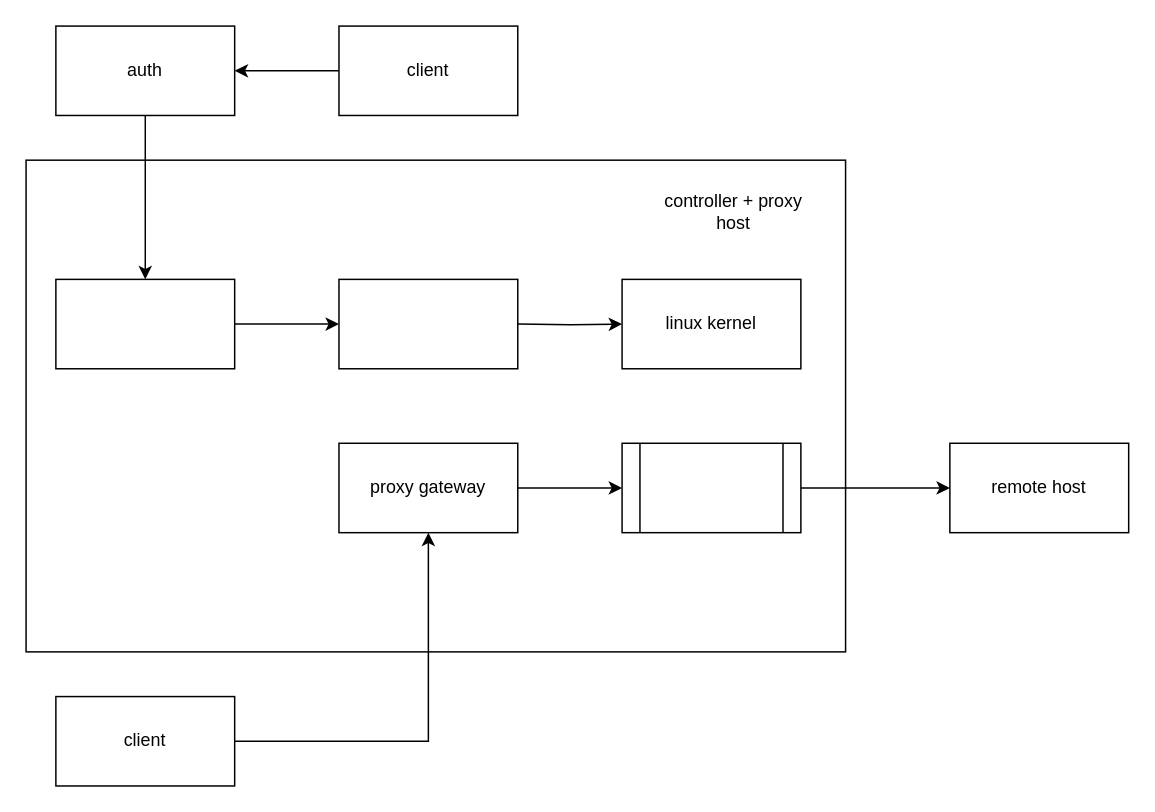
The diagram is 1155 pixels wide and 812 high, and some of its shapes have lost their labels. The shapes that lost their labels are listed below. From the top down, each one's box as (x1, y1, x2, y2) in pixels, then its label:
(54, 278, 235, 369): Controller
(337, 278, 518, 369): cbpf
(621, 442, 801, 533): валидация подключения на основе cbpf-правил
